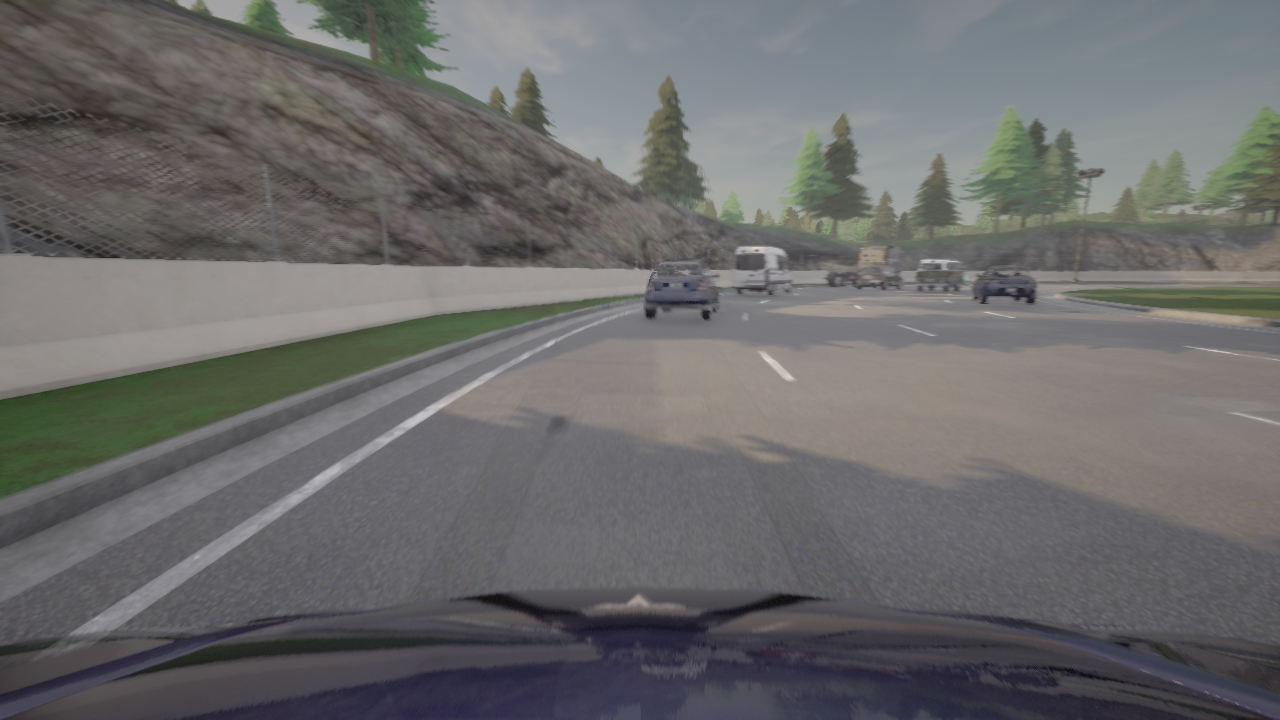cyclist: (0, 588, 1279, 719), (644, 259, 718, 320), (823, 244, 903, 287), (732, 245, 792, 294), (973, 265, 1037, 303), (915, 259, 965, 291), (856, 266, 903, 290), (950, 271, 969, 286)
